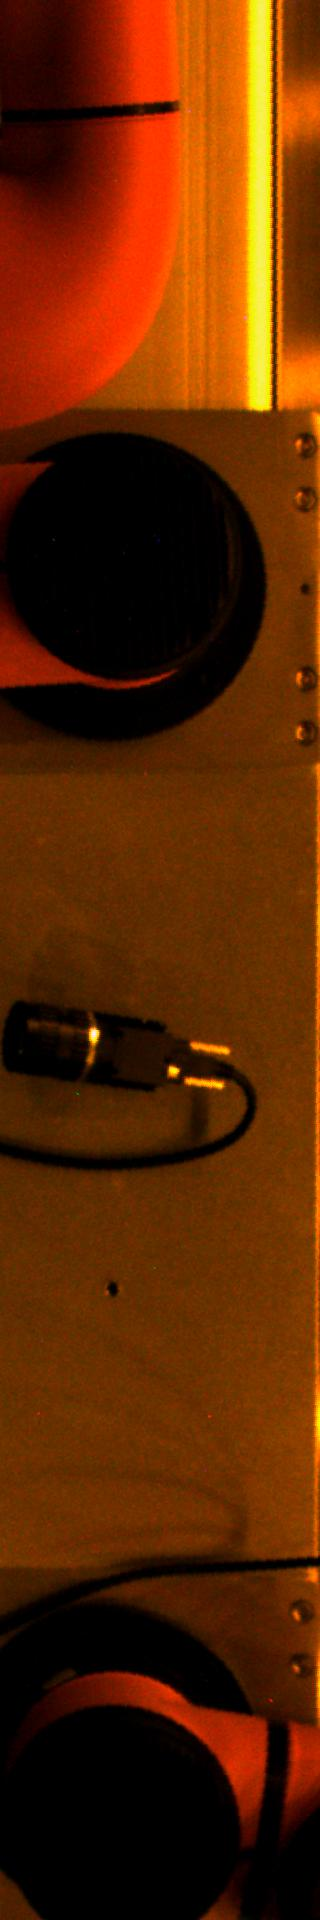keyPoint_2: (97, 1273, 128, 1303)
